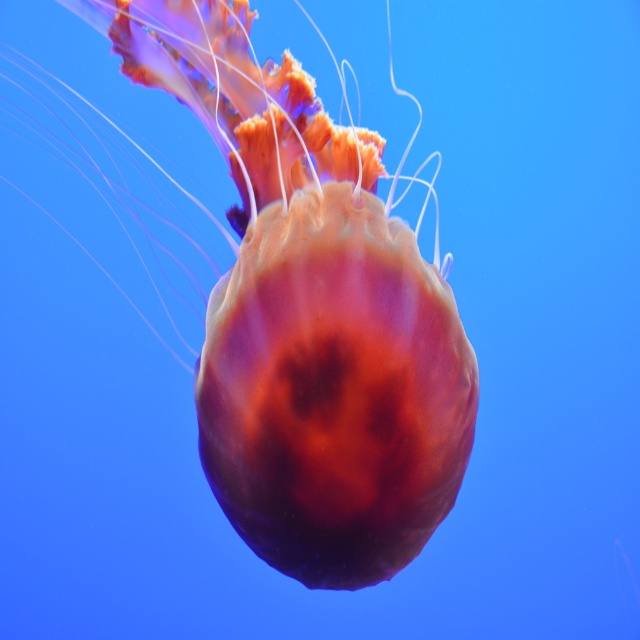Jellyfish: (0, 0, 481, 591)
